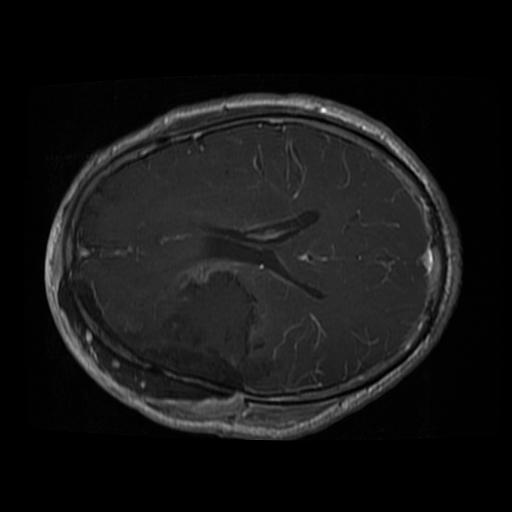glioma: (121, 270, 254, 388)
